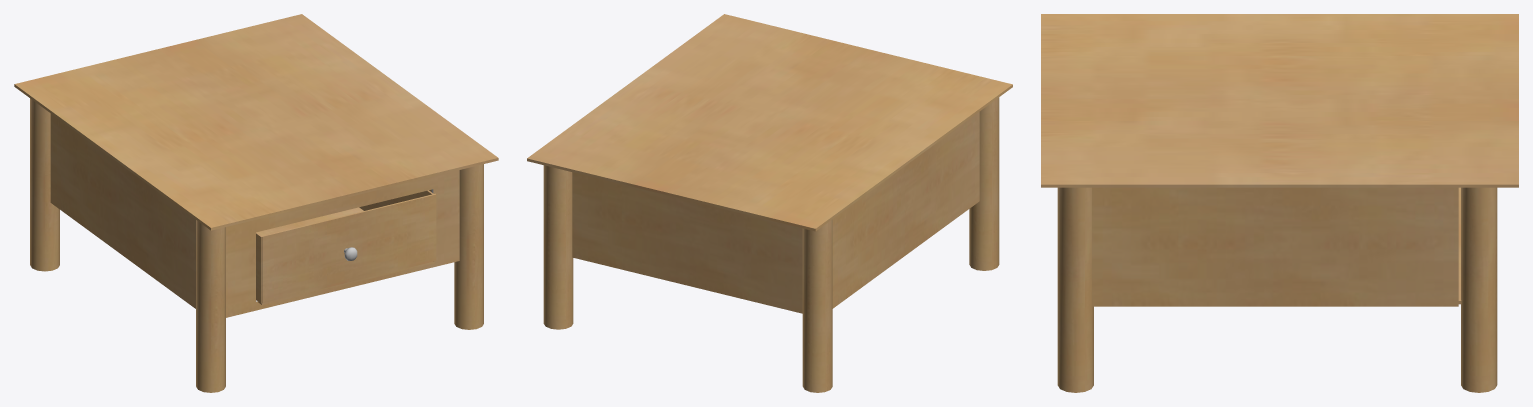
The picture shows the model from 3 angles, left to right: view 1: azimuth 30°, elevation 25°; view 2: azimuth 150°, elevation 25°; view 3: azimuth 270°, elevation 25°; orthographic projection. The views are drawn at different scales.
Visible parts, largest first — view 1: onder, onder_1, onder_2_2, voor, Cylinder_2_2, Cylinder_1, Cylinder_3; view 2: onder, onder_1_2, onder_2_2, Cylinder_3, Cylinder_2, Cylinder_2_2; view 3: onder, onder_3, Cylinder_2, Cylinder_1.
Boxes of the visible parts, <box> form: onder: <box>14,14,498,230</box>; onder_1: <box>256,190,436,305</box>; onder_2_2: <box>50,113,195,308</box>; voor: <box>226,170,459,317</box>; Cylinder_2_2: <box>196,220,225,392</box>; Cylinder_1: <box>454,164,483,329</box>; Cylinder_3: <box>30,98,59,271</box>; onder: <box>527,14,1012,231</box>; onder_1_2: <box>572,172,802,313</box>; onder_2_2: <box>832,112,979,308</box>; Cylinder_3: <box>802,219,832,392</box>; Cylinder_2: <box>543,165,573,329</box>; Cylinder_2_2: <box>969,97,999,270</box>; onder: <box>1041,14,1518,187</box>; onder_3: <box>1092,187,1458,306</box>; Cylinder_2: <box>1461,187,1497,392</box>; Cylinder_1: <box>1057,187,1093,392</box>.
Size of the model in its own units: 223 by 128 by 264.
Materials: 2 (1 with a texture image).
